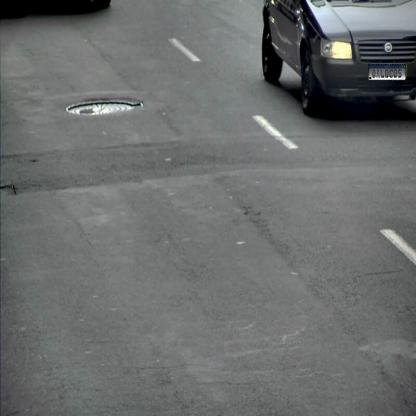PlacaM: (368, 64, 406, 80)
